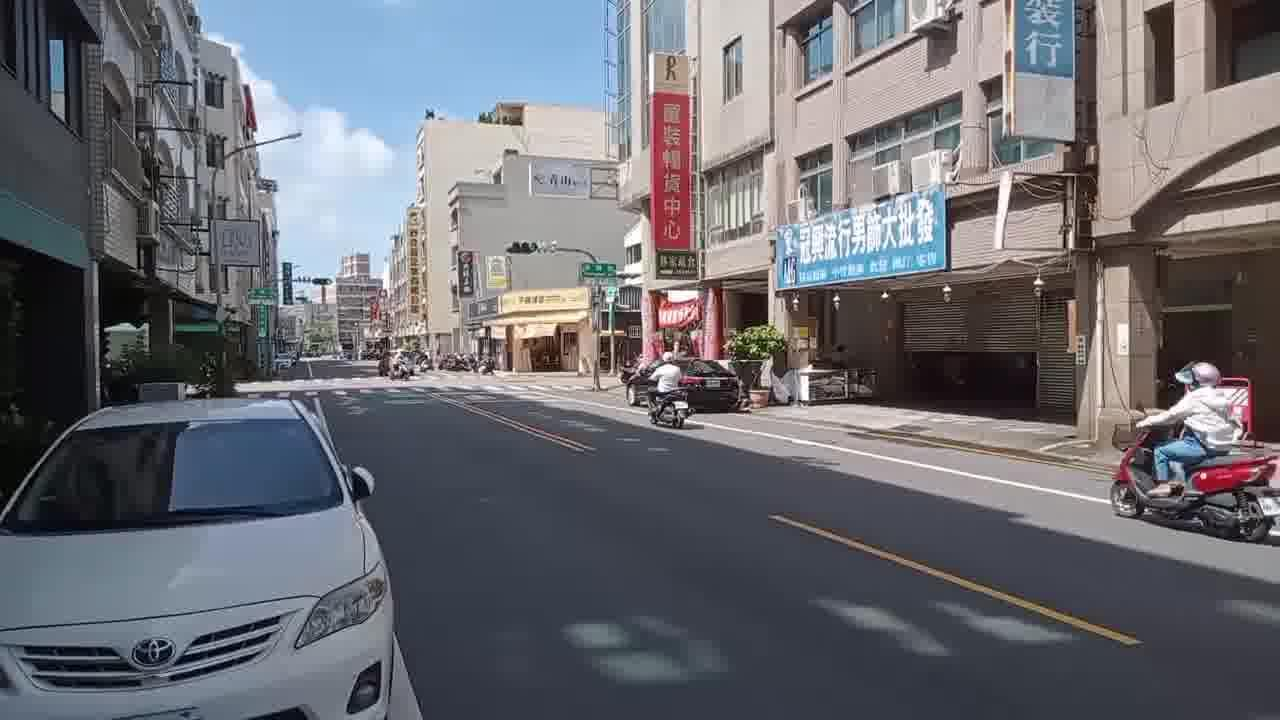driver: (1097, 355, 1280, 557)
helmet: (1174, 358, 1223, 392)
